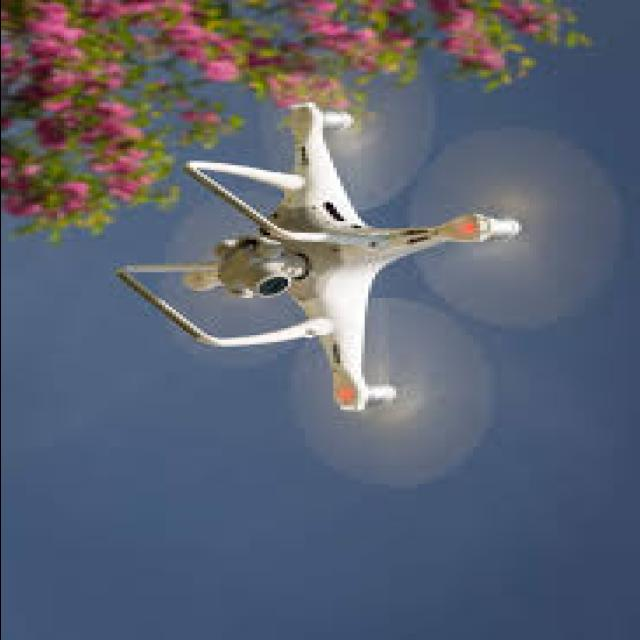drone: (105, 62, 606, 482)
